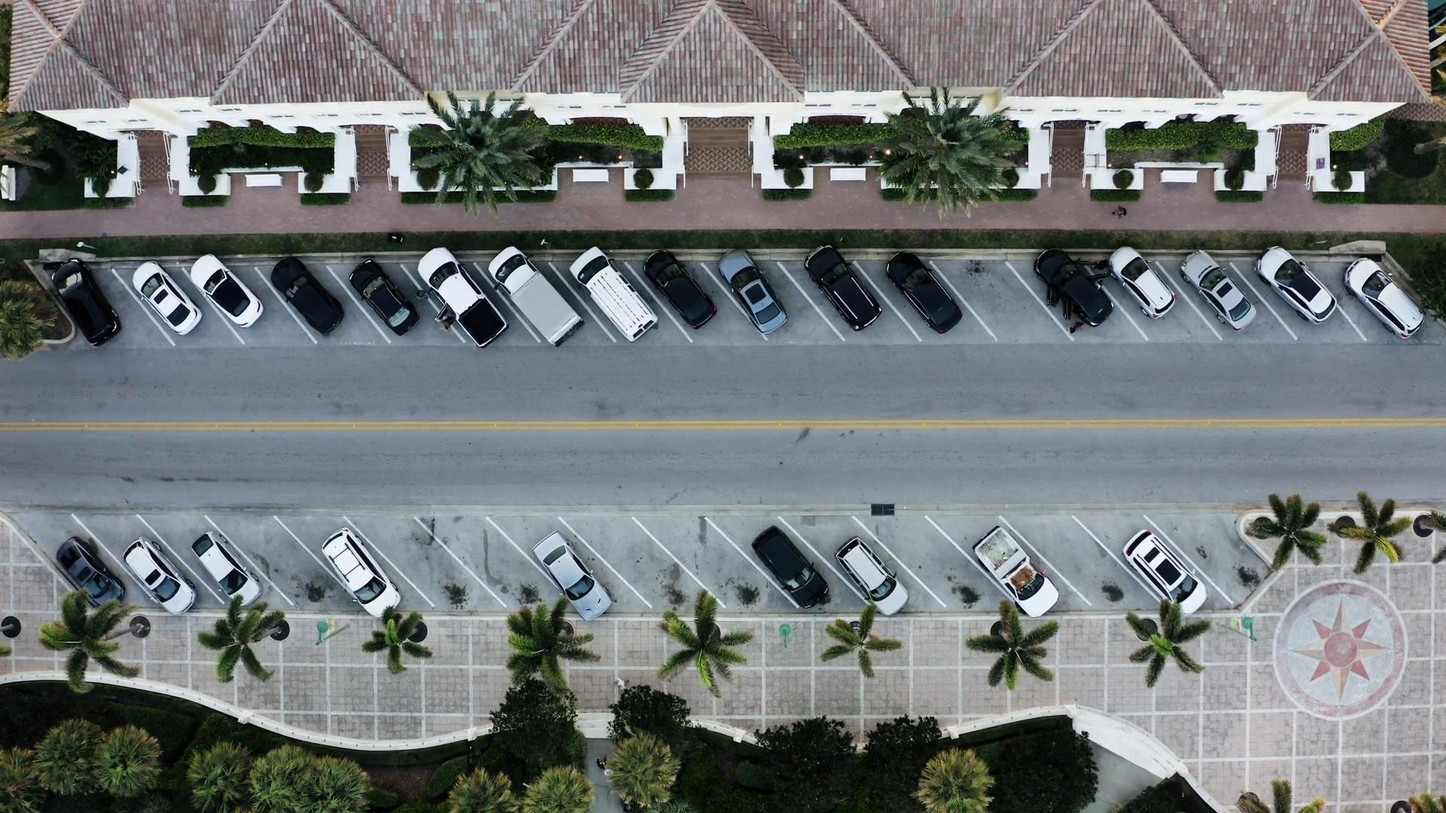free: (265, 532, 336, 656), (1067, 525, 1154, 611), (909, 522, 989, 613), (969, 260, 1049, 351), (681, 517, 761, 608), (614, 524, 694, 615), (1201, 505, 1281, 595), (461, 532, 542, 620), (400, 529, 480, 617)
occupied: (493, 245, 562, 364), (427, 265, 513, 348), (1343, 258, 1427, 339), (804, 245, 881, 331), (1253, 246, 1336, 324), (1032, 248, 1110, 330), (50, 258, 123, 345), (1181, 250, 1259, 331), (751, 526, 827, 609), (137, 252, 199, 353), (332, 520, 394, 621), (656, 248, 718, 349), (989, 523, 1051, 624), (224, 254, 285, 356), (892, 252, 965, 334), (717, 249, 787, 334), (273, 257, 347, 335), (122, 538, 197, 614), (348, 259, 421, 337), (191, 530, 263, 607), (835, 536, 906, 612), (578, 263, 647, 337), (57, 536, 127, 608), (1109, 245, 1176, 318), (538, 546, 595, 624), (51, 258, 87, 290)
